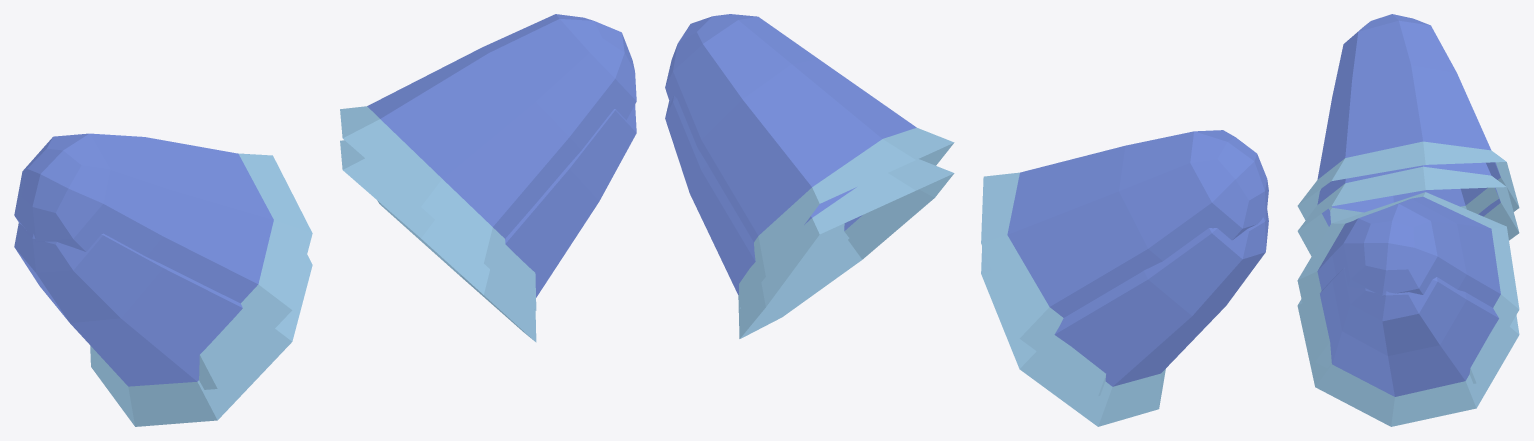
The model's file is horns.glb.
The picture shows the model from 3 angles, left to right: view 1: azimuth 30°, elevation 25°; view 2: azimuth 150°, elevation 25°; view 3: azimuth 270°, elevation 25°; orthographic projection. The views are drawn at different scales.
Parts seen in each view (by area): view 1: hat.015, top.009; view 2: hat.015, top.009; view 3: hat.015, top.009.
Boxes of the visible parts, x1=… form: hat.015: x1=14, y1=14, x2=636, y2=389; top.009: x1=14, y1=104, x2=636, y2=426; hat.015: x1=665, y1=14, x2=1268, y2=396; top.009: x1=665, y1=96, x2=1268, y2=426; hat.015: x1=1297, y1=14, x2=1519, y2=383; top.009: x1=1297, y1=162, x2=1519, y2=426.
Size of the model in its own units: 1.69 by 0.8083 by 0.6799.
